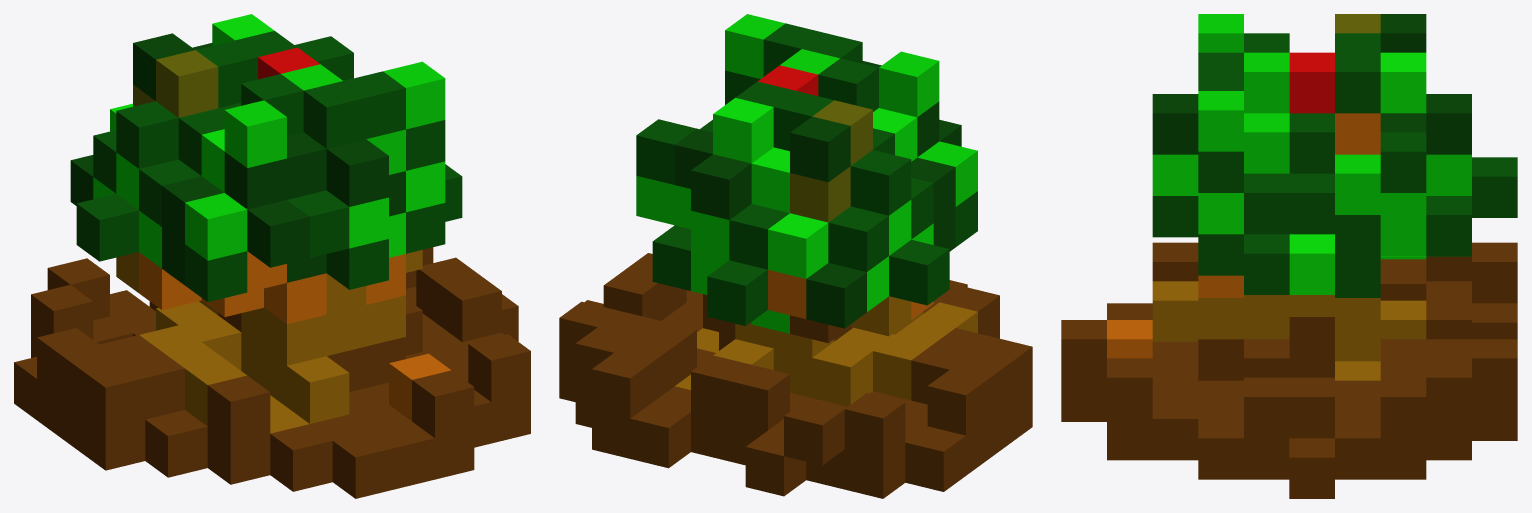
File: Miguel_Angel_Cartagena_Herrera_fase_1.obj
3 renders of one model, left to right at view 1: azimuth 30°, elevation 25°; view 2: azimuth 150°, elevation 25°; view 3: azimuth 270°, elevation 25°, orthographic. The views are drawn at different scales.
Parts seen in each view (by area): view 1: Miguel_Angel_Cartagena_Herrera_fase_1; view 2: Miguel_Angel_Cartagena_Herrera_fase_1; view 3: Miguel_Angel_Cartagena_Herrera_fase_1.
Part boxes in pixels (<box>): Miguel_Angel_Cartagena_Herrera_fase_1: <box>14,14,530,498</box>; Miguel_Angel_Cartagena_Herrera_fase_1: <box>559,14,1032,498</box>; Miguel_Angel_Cartagena_Herrera_fase_1: <box>1061,14,1517,498</box>.
Size of the model in its own units: 11 by 8 by 10.
Materials: 1 (1 with a texture image).
